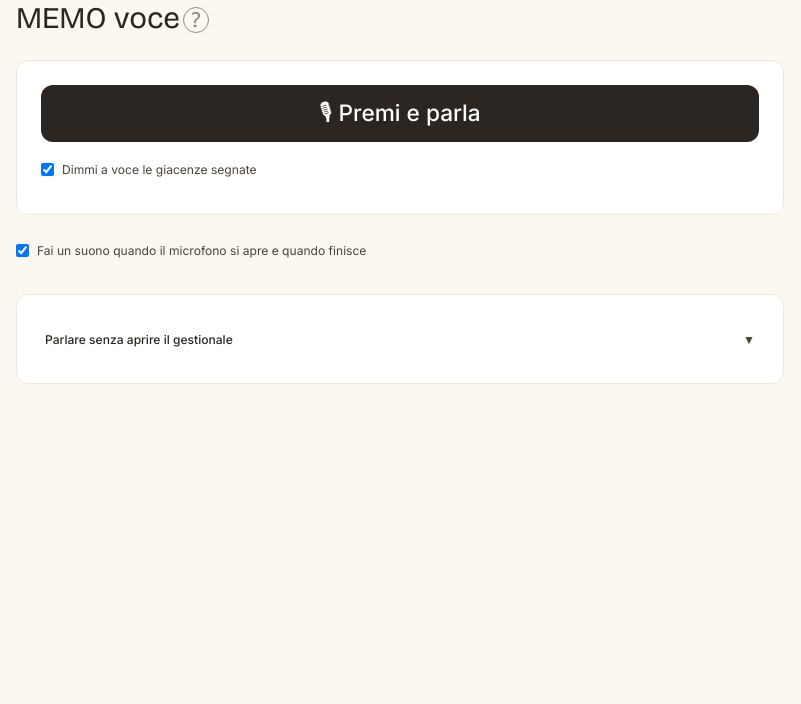
Test: 🔴 la scheda dell'appunto appena detto compare subito › APPROVABILE: la scheda e «Approva» si vedono senza uscire e rientrare
Click the button "🎙 Premi e parla" at x=400, y=114, box left=41, top=85, right=759, bottom=142
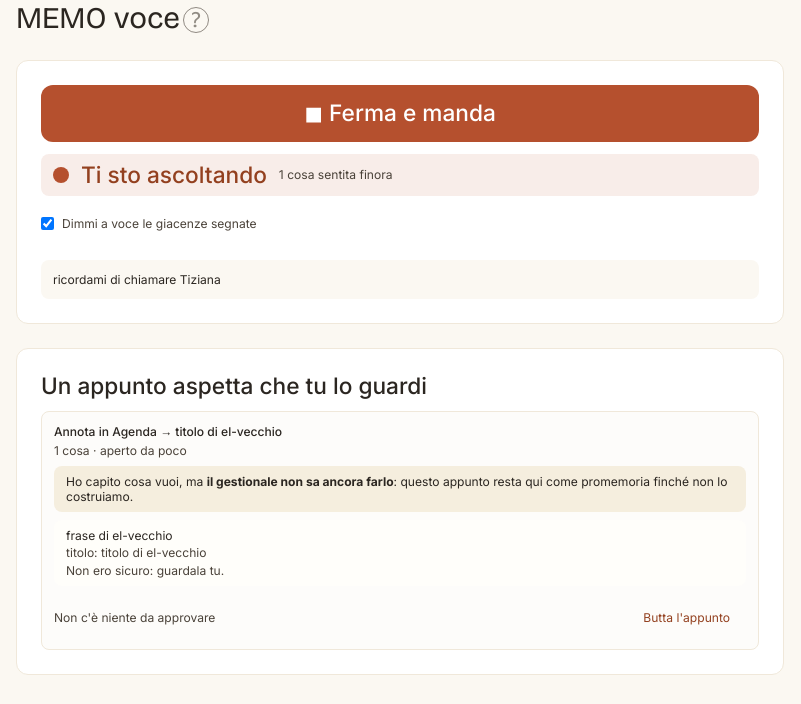
Click the button "◼ Ferma e manda" at x=400, y=114, box left=41, top=85, right=759, bottom=142
(page scrolled)
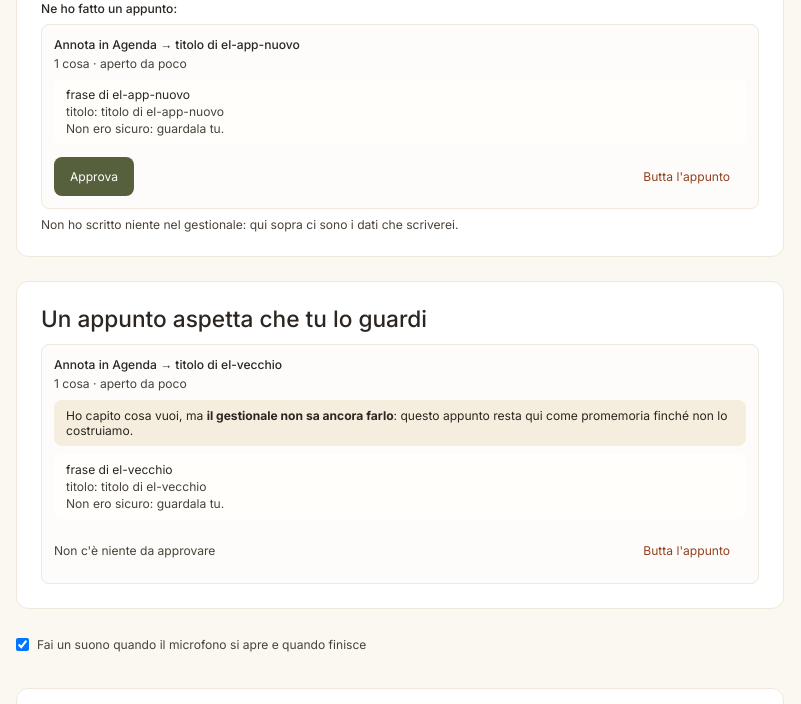
Result: the heading "Ne ho fatto un appunto:" is shown at left=41, top=1, right=177, bottom=16
Result: the button "Approva" is shown at left=54, top=156, right=134, bottom=196
Result: the text "Annota in Agenda → titolo di el-app-nuovo" is shown at left=54, top=37, right=300, bottom=52
